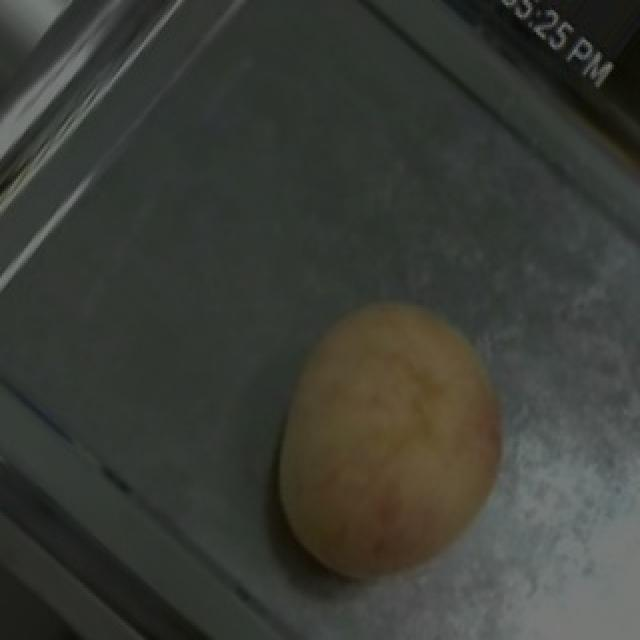Fruit: (230, 256, 546, 625)
